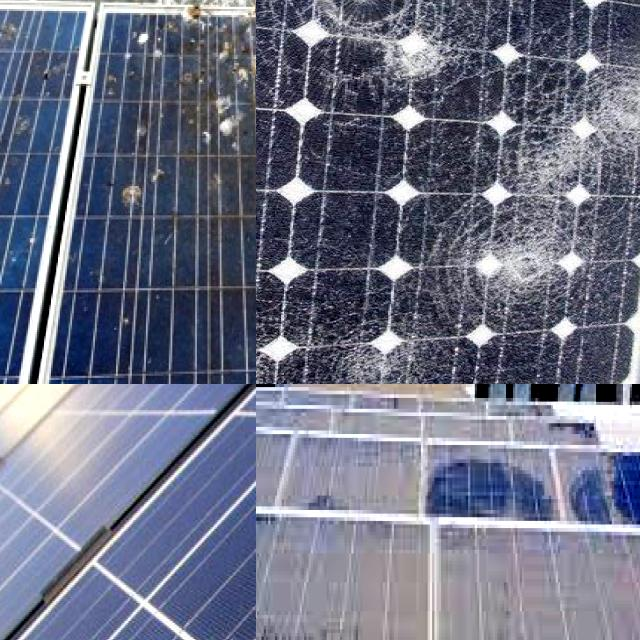bird: (207, 9, 256, 134), (114, 155, 188, 219), (118, 21, 173, 68), (38, 55, 66, 99), (0, 10, 27, 51), (0, 199, 21, 244)
crack: (0, 384, 256, 640)
dust: (300, 536, 424, 640), (420, 454, 548, 524), (449, 536, 561, 608), (256, 521, 320, 640), (291, 448, 409, 508), (554, 444, 635, 524), (256, 430, 338, 508), (577, 546, 640, 640), (256, 516, 277, 640)
hotspot: (421, 172, 599, 331), (314, 0, 469, 96), (405, 0, 627, 34), (561, 69, 640, 160), (256, 322, 343, 384), (340, 308, 408, 384), (256, 0, 330, 51)
